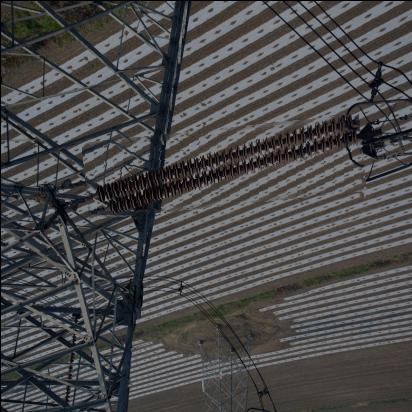insulator: (84, 121, 366, 213)
